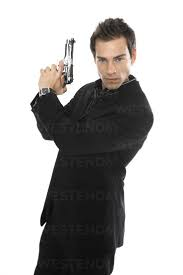gun: (32, 33, 79, 94)
